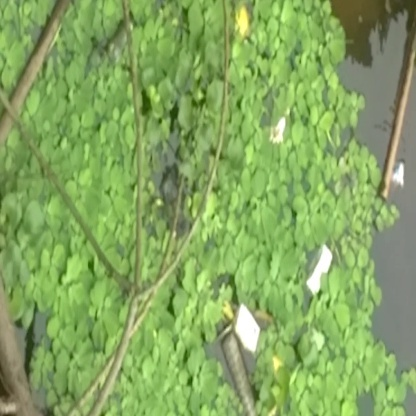branch: (378, 25, 416, 200)
